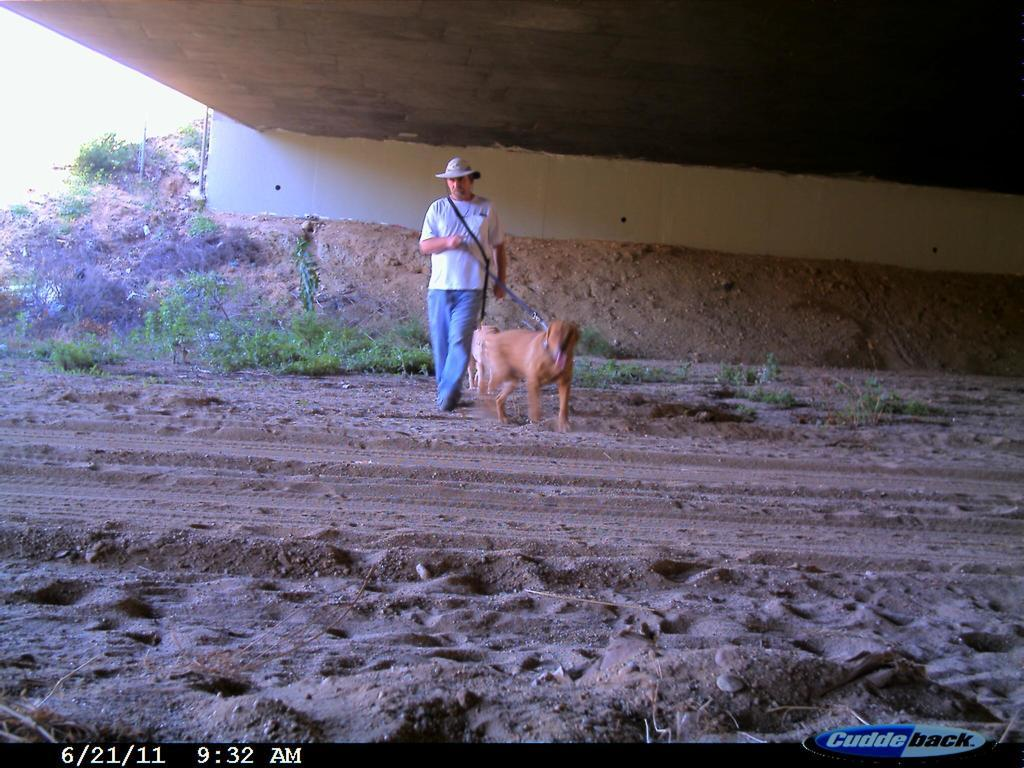dog: (463, 306, 597, 440)
